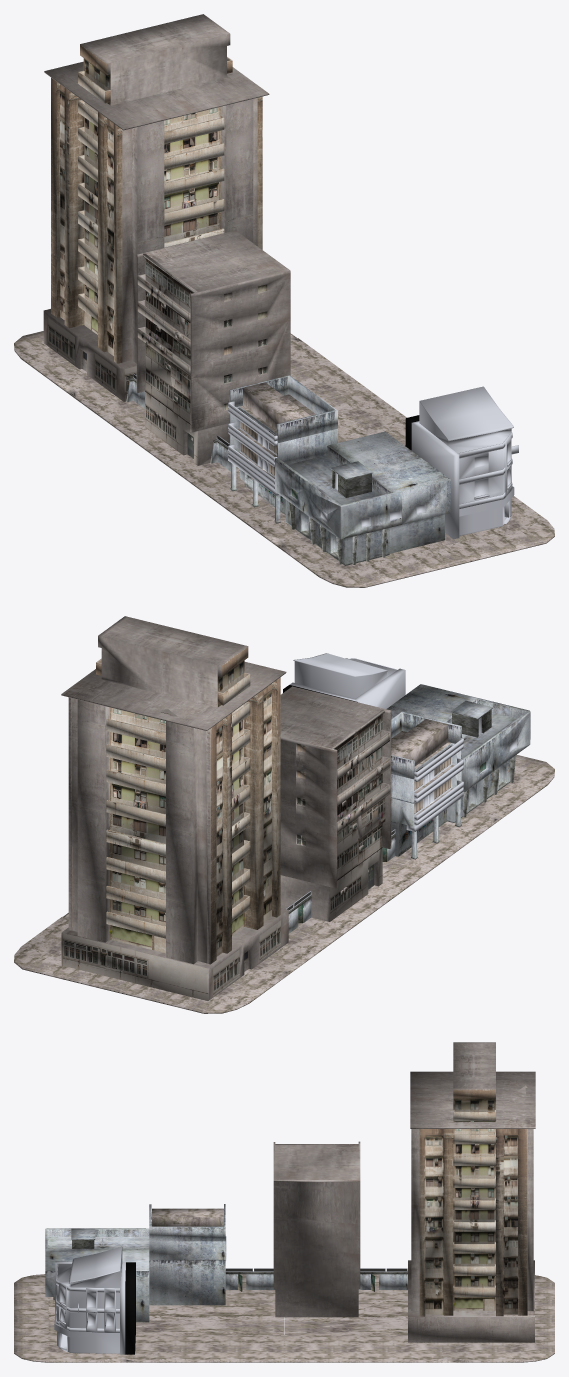
The model's file is CityBlockB.obj.
3 views of the same model, one above another, from view 1: azimuth 30°, elevation 25°; view 2: azimuth 150°, elevation 25°; view 3: azimuth 270°, elevation 25° (orthographic). The views are drawn at different scales.
Visible parts, largest first — view 1: CityBlockB; view 2: CityBlockB; view 3: CityBlockB.
Boxes of the visible parts, x1,y1,x2,y2 form: CityBlockB: (14,14,554,587); CityBlockB: (14,616,554,1013); CityBlockB: (14,1042,554,1362).
Bounding box in the file's own units: 939 × 1242 × 2436.
